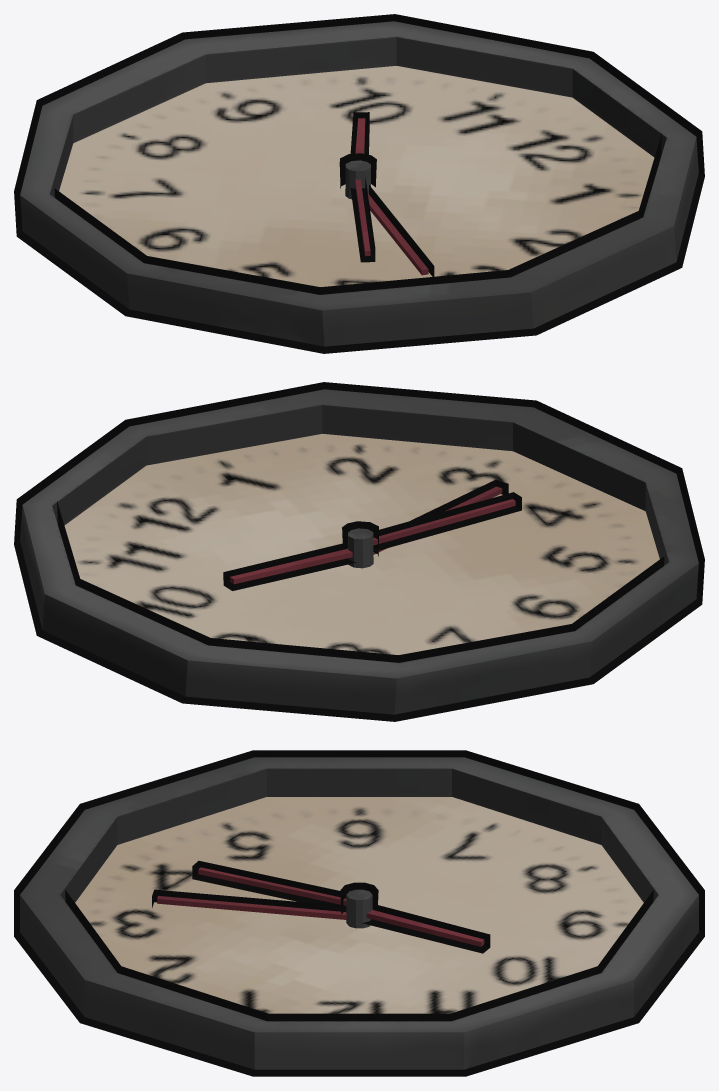
The model's file is Relogio de parede.glb.
The picture shows the model from 3 angles, top to bottom: view 1: azimuth 30°, elevation 25°; view 2: azimuth 150°, elevation 25°; view 3: azimuth 270°, elevation 25°; orthographic projection.
Visible parts, largest first — view 1: Relogio parede; view 2: Relogio parede; view 3: Relogio parede.
Boxes of the visible parts, left/top/right/bottom form: Relogio parede: left=14, top=14, right=704, bottom=353; Relogio parede: left=14, top=382, right=704, bottom=721; Relogio parede: left=14, top=750, right=704, bottom=1076.
Size of the model in its own units: 2.95 by 0.2475 by 3.08.
Materials: 2 (1 with a texture image).
